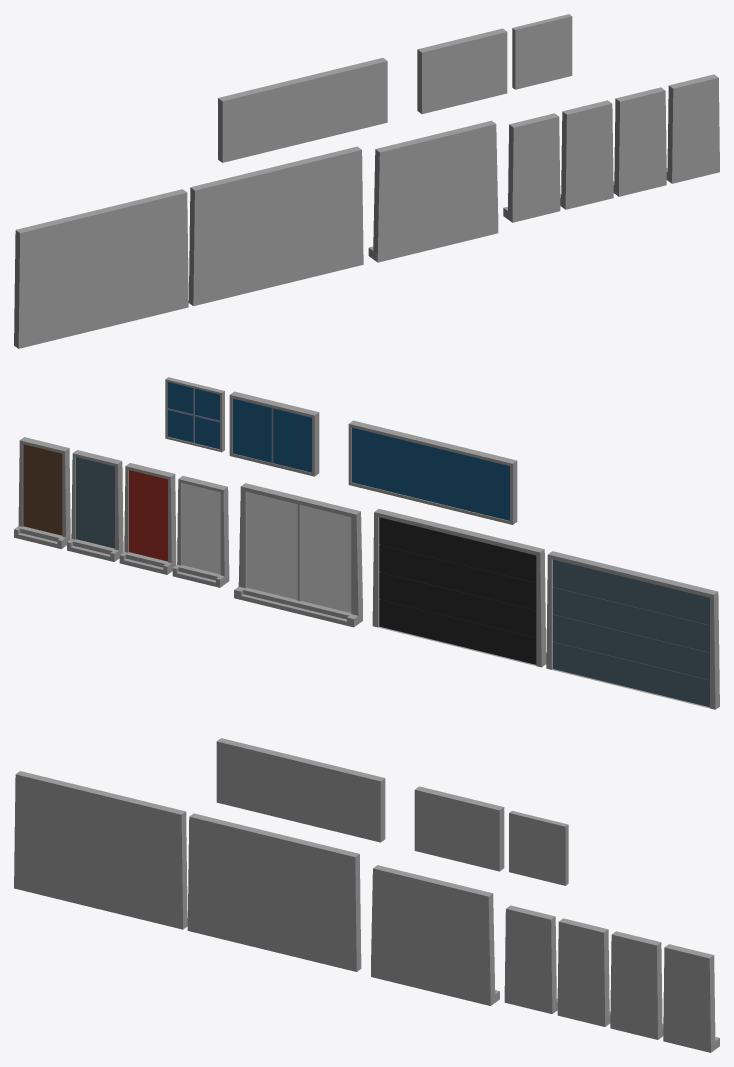
Rendered from KitArquitectura.fbx.
3 renders of one model, top to bottom at view 1: azimuth 30°, elevation 25°; view 2: azimuth 150°, elevation 25°; view 3: azimuth 330°, elevation 25°, orthographic.
Parts seen in each view (by area): view 1: PuertaGaraje02, PuertaGaraje01, PuertaComercio, Ventana03, Ventana02, PuertaResidencial04, PuertaResidencial01, PuertaResidencial03, PuertaResidencial02, Ventana01; view 2: PuertaGaraje02, PuertaGaraje01, PuertaComercio, Ventana03, Ventana02, PuertaResidencial04, PuertaResidencial03, PuertaResidencial01, PuertaResidencial02, Ventana01; view 3: PuertaGaraje02, PuertaGaraje01, PuertaComercio, Ventana03, Ventana02, PuertaResidencial01, PuertaResidencial02, PuertaResidencial03, PuertaResidencial04, Ventana01.
Boxes of the visible parts, x1,y1,x2,y2 form: PuertaGaraje02: [14, 189, 188, 348]; PuertaGaraje01: [188, 146, 363, 306]; PuertaComercio: [368, 120, 498, 262]; Ventana03: [218, 58, 387, 162]; Ventana02: [417, 28, 507, 114]; PuertaResidencial04: [503, 113, 560, 222]; PuertaResidencial01: [666, 74, 719, 183]; PuertaResidencial03: [560, 100, 613, 209]; PuertaResidencial02: [613, 87, 666, 196]; Ventana01: [512, 14, 572, 89]; PuertaGaraje02: [546, 551, 719, 709]; PuertaGaraje01: [372, 509, 546, 667]; PuertaComercio: [234, 483, 362, 627]; Ventana03: [348, 420, 517, 524]; Ventana02: [229, 391, 319, 476]; PuertaResidencial04: [172, 476, 229, 587]; PuertaResidencial03: [119, 463, 176, 574]; PuertaResidencial01: [14, 437, 70, 548]; PuertaResidencial02: [67, 450, 123, 561]; Ventana01: [165, 377, 224, 452]; PuertaGaraje02: [14, 771, 187, 929]; PuertaGaraje01: [187, 813, 361, 971]; PuertaComercio: [371, 865, 499, 1005]; Ventana03: [216, 738, 385, 842]; Ventana02: [414, 786, 504, 871]; PuertaResidencial01: [663, 944, 719, 1052]; PuertaResidencial02: [610, 931, 663, 1039]; PuertaResidencial03: [557, 918, 610, 1026]; PuertaResidencial04: [504, 905, 557, 1013]; Ventana01: [509, 811, 568, 885].
Size of the model in its own units: 2637 by 716 by 60.
